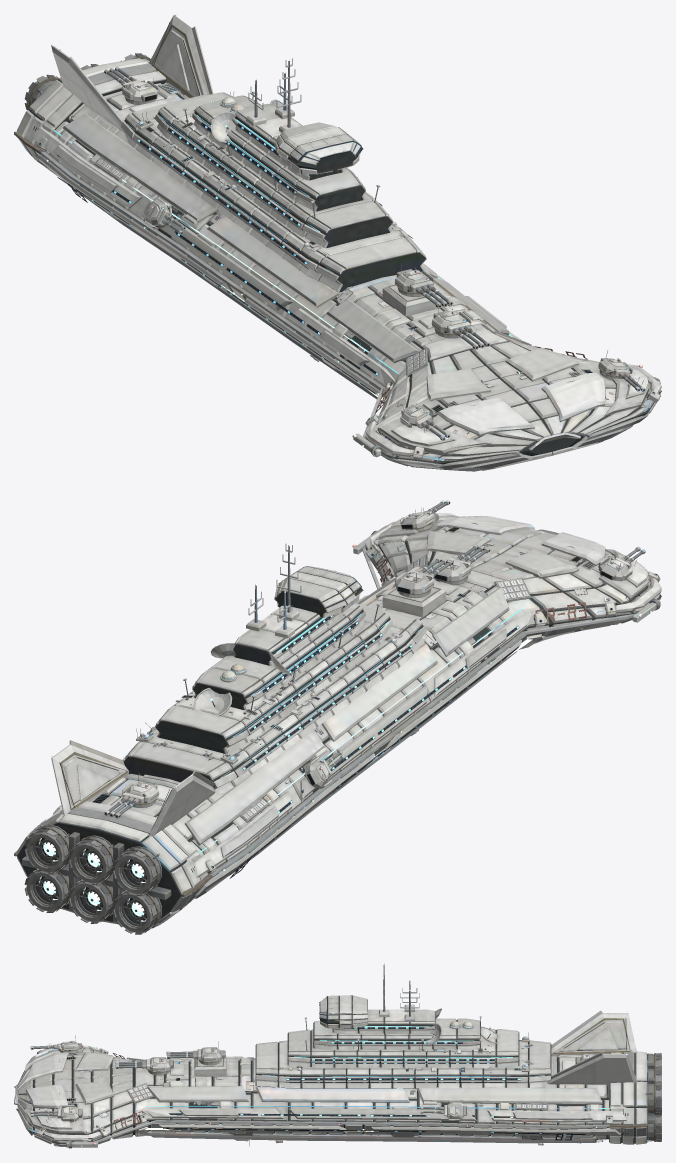
Rendered from sovereign_cruiser.glb.
3 views of the same model, one above another, from view 1: azimuth 30°, elevation 25°; view 2: azimuth 150°, elevation 25°; view 3: azimuth 270°, elevation 25° (orthographic). The views are drawn at different scales.
Visible parts, largest first — view 1: sovereign_cruiser_hull, sovereign_cruiser_glass; view 2: sovereign_cruiser_hull, sovereign_cruiser_plasma, sovereign_cruiser_glass; view 3: sovereign_cruiser_hull, sovereign_cruiser_glass.
Part boxes in pixels (box(x1,y1,x2,y2)): sovereign_cruiser_hull: box(14, 14, 661, 471); sovereign_cruiser_glass: box(57, 123, 374, 392); sovereign_cruiser_hull: box(14, 500, 661, 934); sovereign_cruiser_plasma: box(39, 838, 145, 921); sovereign_cruiser_glass: box(240, 566, 515, 866); sovereign_cruiser_hull: box(14, 963, 661, 1148); sovereign_cruiser_glass: box(168, 996, 584, 1134).
Size of the model in its own units: 72.16 by 61.63 by 202.
Materials: 3 (1 with a texture image).
